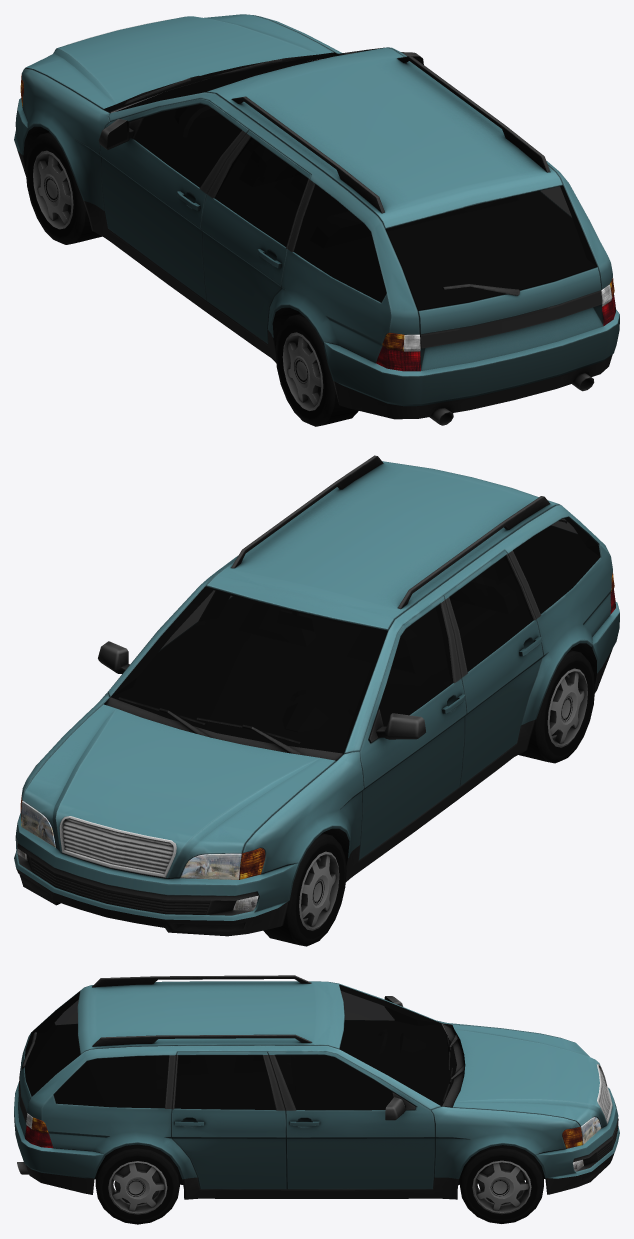
The model's file is wagon.glb.
3 renders of one model, top to bottom at view 1: azimuth 30°, elevation 25°; view 2: azimuth 150°, elevation 25°; view 3: azimuth 270°, elevation 25°, orthographic. The views are drawn at different scales.
Parts seen in each view (by area): view 1: Body, Wheel_RL, Wheel_FL; view 2: Body, Wheel_FL, Wheel_RL; view 3: Body, Wheel_RR, Wheel_FR.
Boxes of the visible parts, x1,y1,x2,y2 form: Body: (14,14,619,425); Wheel_RL: (275,313,358,426); Wheel_FL: (25,132,101,244); Body: (14,455,619,936); Wheel_FL: (263,833,346,946); Wheel_RL: (518,650,595,763); Body: (14,975,619,1199); Wheel_RR: (95,1144,179,1224); Wheel_FR: (459,1145,543,1223).
Bounding box in the file's own units: 1.95 × 1.38 × 4.38.
Materials: 4 (3 with a texture image).
